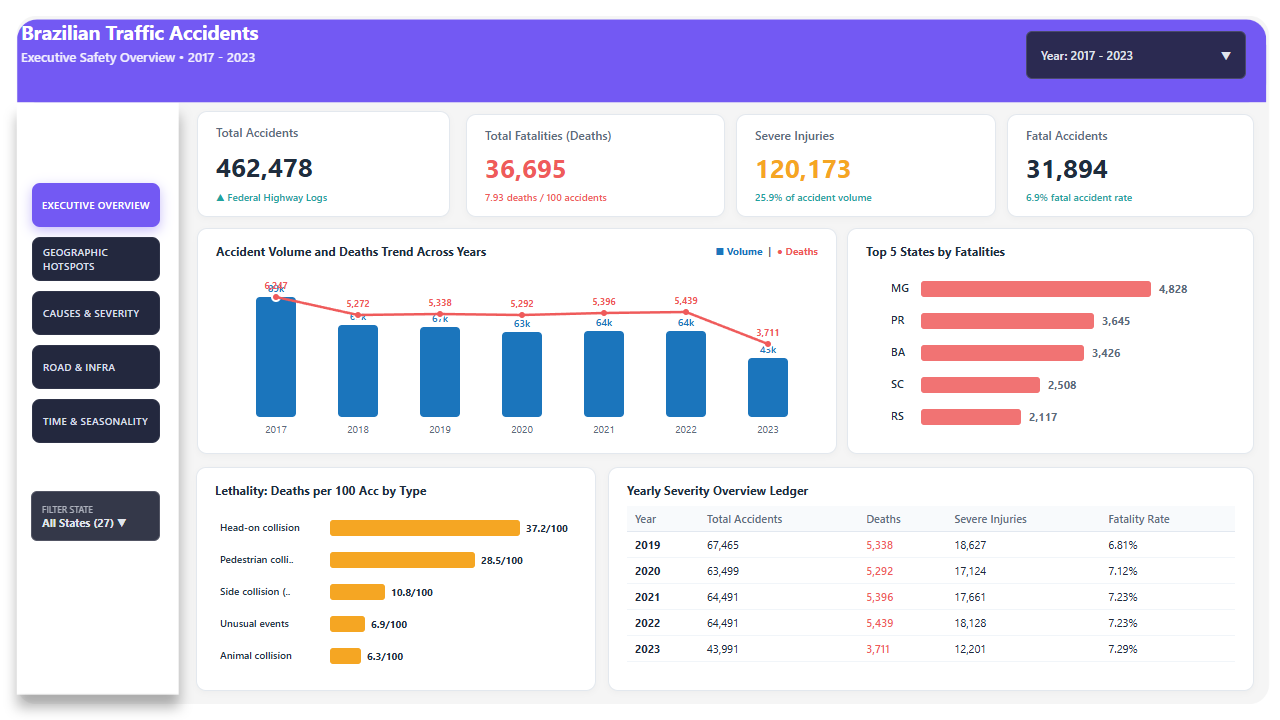

Layout of this report page (visuals, bound fields, positions):
{"tool":"powerbi","page":{"name":"Page 1","canvas":[1920,1080],"ordinal":0},"visuals":[{"type":"cardVisual","fields":{"Data":["_Measures.Accidents"]},"box":[20,76,298,88],"z":0},{"type":"cardVisual","fields":{"Data":["_Measures.Deaths"]},"box":[334,76,298,88],"z":1000},{"type":"cardVisual","fields":{"Data":["_Measures.Fatal Accident Rate"]},"box":[962,76,298,88],"z":2000},{"type":"cardVisual","fields":{"Data":["_Measures.Severe Injuries"]},"box":[648,76,298,88],"z":3000},{"type":"lineClusteredColumnComboChart","title":"Annual accident volume and deaths","fields":{"Category":["Date_Dimension.Year"],"Y":["_Measures.Accidents"],"Y2":["_Measures.Deaths"]},"box":[20.6,175.8,739.9,363.1],"z":4000},{"type":"clusteredBarChart","title":"States with the most recorded deaths","fields":{"Category":["Location_Dimension.State"],"Y":["_Measures.Deaths"]},"box":[20.6,557.2,621.1,278.6],"z":5000},{"type":"cardVisual","title":"Highest-severity accident type","fields":{"Data":["_Measures.Top Type","_Measures.Top Type Rate","_Measures.Top Type Detail"]},"box":[776.4,175.8,484.1,363.1],"z":6000},{"type":"clusteredBarChart","title":"Deaths per 100 accidents by accident type","fields":{"Category":["AccidentType_Dimension.Type_Of_Accident"],"Y":["_Measures.Deaths per 100 (Min Sample)"]},"box":[657.7,557.2,605.1,278.6],"z":7000},{"type":"textbox","box":[20,10,621.7,66.7],"z":8000}]}

Visuals, with their boxes in screenshot pixels (x1, y1, x2, y2), scaled from the page's 1920x1080 canvas onto the 1280x720 screenshot:
cardVisual - _Measures.Accidents: (13, 51, 212, 109)
cardVisual - _Measures.Deaths: (223, 51, 421, 109)
cardVisual - _Measures.Fatal Accident Rate: (641, 51, 840, 109)
cardVisual - _Measures.Severe Injuries: (432, 51, 631, 109)
"Annual accident volume and deaths" lineClusteredColumnComboChart: (14, 117, 507, 359)
"States with the most recorded deaths" clusteredBarChart: (14, 371, 428, 557)
"Highest-severity accident type" cardVisual: (518, 117, 840, 359)
"Deaths per 100 accidents by accident type" clusteredBarChart: (438, 371, 842, 557)
textbox: (13, 7, 428, 51)
